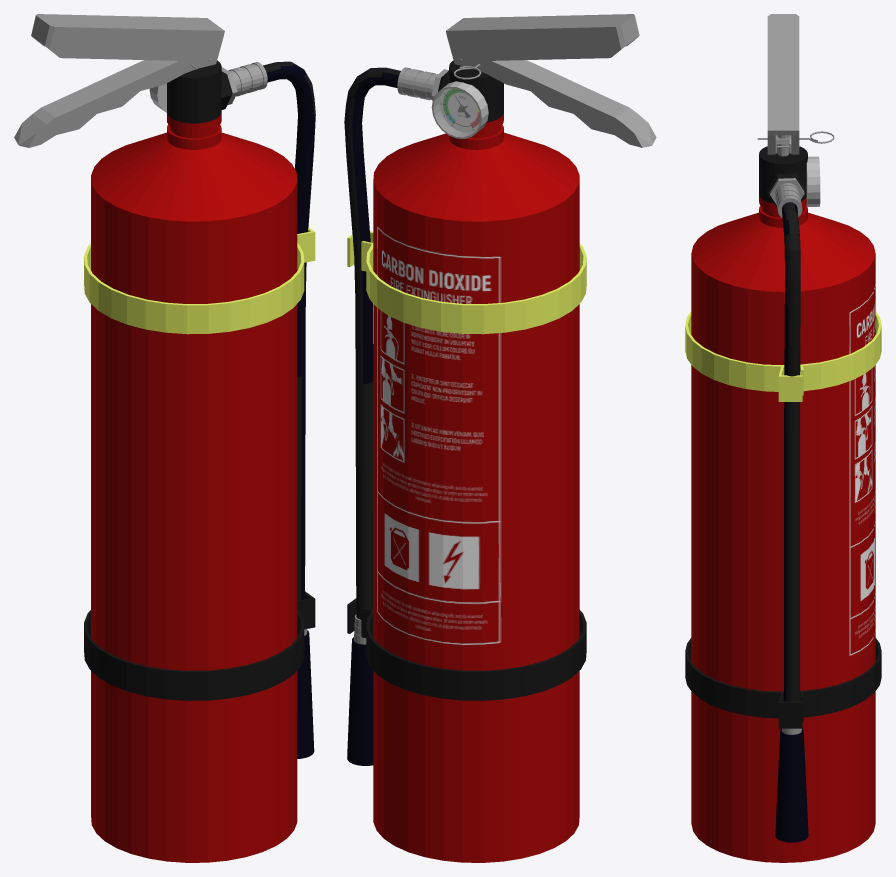
The model's file is 3-Espuma.glb.
3 views of the same model, side by side, from view 1: azimuth 30°, elevation 25°; view 2: azimuth 150°, elevation 25°; view 3: azimuth 270°, elevation 25° (orthographic). The views are drawn at different scales.
Visible parts, largest first — view 1: fire extinguisher, Hose, Top hand, belt, belt_palette_0.001, Lower hand3; view 2: fire extinguisher, Hose, Top hand, belt, belt_palette_0.001, Lower hand3, Manometer454, glass; view 3: fire extinguisher, Hose, belt, belt_palette_0.001, Top hand, Manometer454, bracing.
Part boxes in pixels (x1=…): fire extinguisher: x1=91, y1=60, x2=297, y2=862; Hose: x1=228, y1=61, x2=315, y2=758; Top hand: x1=31, y1=14, x2=224, y2=68; belt: x1=84, y1=591, x2=315, y2=700; belt_palette_0.001: x1=84, y1=227, x2=315, y2=334; Lower hand3: x1=14, y1=60, x2=195, y2=147; fire extinguisher: x1=373, y1=60, x2=579, y2=862; Hose: x1=344, y1=67, x2=437, y2=765; Top hand: x1=446, y1=14, x2=639, y2=67; belt: x1=347, y1=598, x2=586, y2=700; belt_palette_0.001: x1=347, y1=231, x2=586, y2=334; Lower hand3: x1=474, y1=60, x2=656, y2=147; Manometer454: x1=431, y1=81, x2=488, y2=138; glass: x1=433, y1=88, x2=480, y2=136; fire extinguisher: x1=691, y1=144, x2=875, y2=862; Hose: x1=775, y1=183, x2=808, y2=842; belt: x1=685, y1=638, x2=881, y2=728; belt_palette_0.001: x1=685, y1=311, x2=881, y2=401; Top hand: x1=767, y1=14, x2=799, y2=154; Manometer454: x1=806, y1=156, x2=820, y2=206; bracing: x1=766, y1=172, x2=806, y2=206.
Size of the model in its own units: 0.8424 by 2.23 by 0.534.
5 materials, 3 textured.
